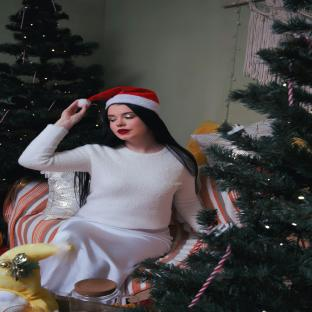Human: (18, 87, 202, 292)
